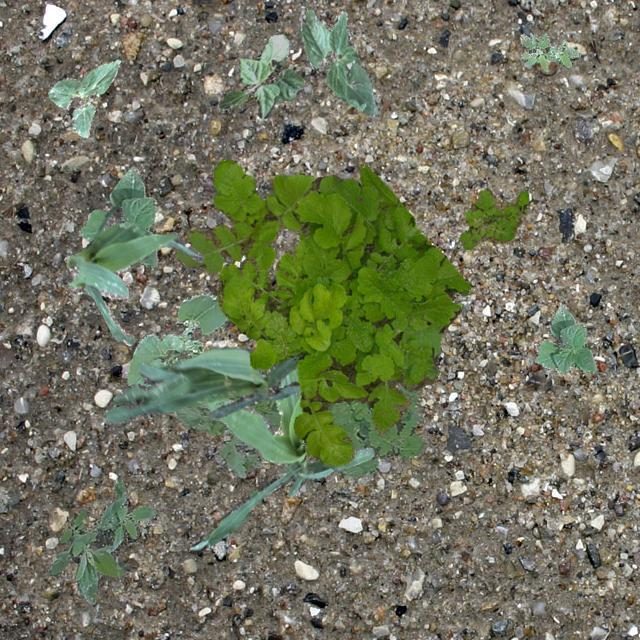crop: (190, 364, 373, 554), (64, 204, 202, 344), (105, 346, 302, 422), (125, 292, 228, 386), (300, 6, 380, 116), (78, 166, 156, 266), (218, 34, 304, 118), (46, 58, 120, 136), (534, 304, 596, 374), (140, 332, 182, 382)
weed: (216, 162, 470, 464), (170, 368, 424, 476), (174, 158, 314, 274), (46, 478, 156, 604), (458, 188, 528, 248), (520, 30, 580, 70)
